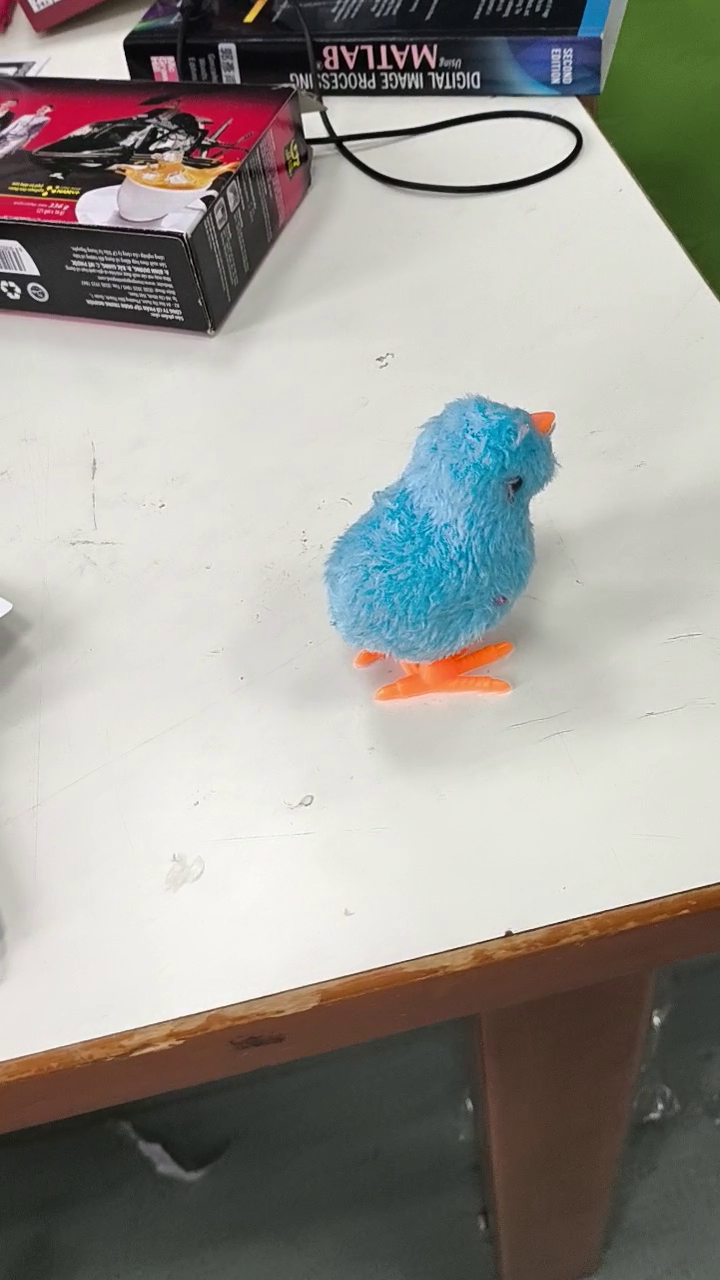blue chicken: (319, 388, 563, 708)
